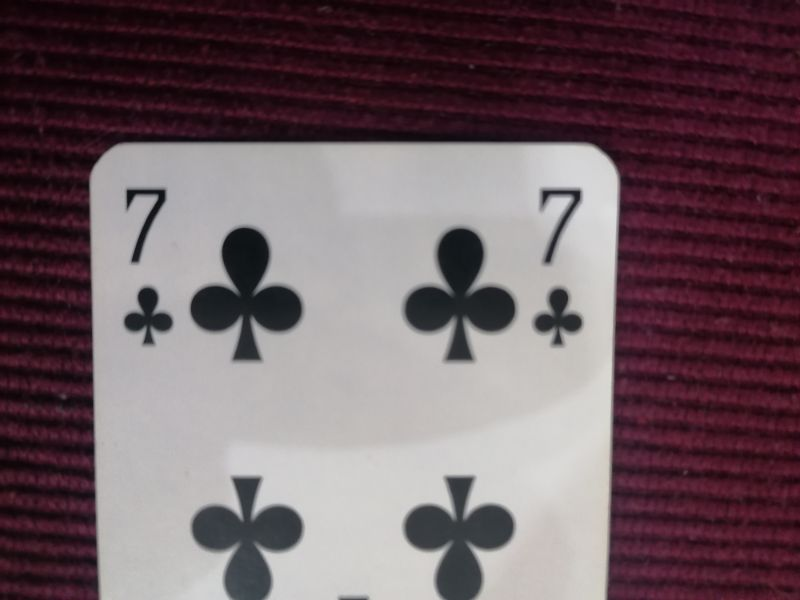7c: (119, 178, 183, 353), (530, 176, 588, 354)
